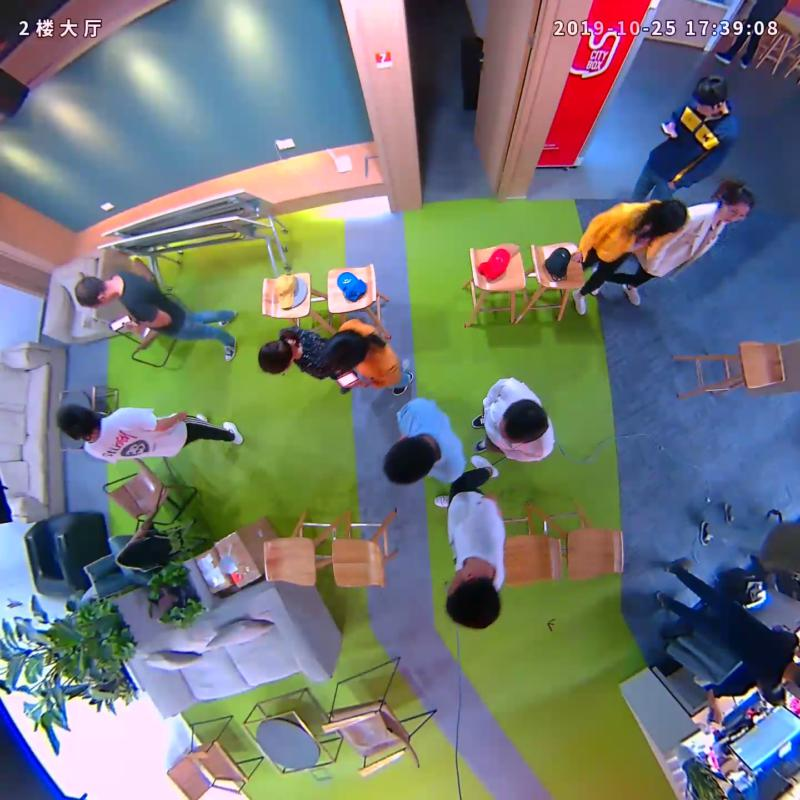head: (445, 565, 501, 631), (382, 434, 435, 486), (499, 398, 549, 444), (321, 327, 368, 370), (691, 74, 729, 116), (54, 403, 97, 439), (719, 183, 755, 225), (646, 199, 687, 235), (73, 275, 113, 309), (257, 338, 293, 374)
